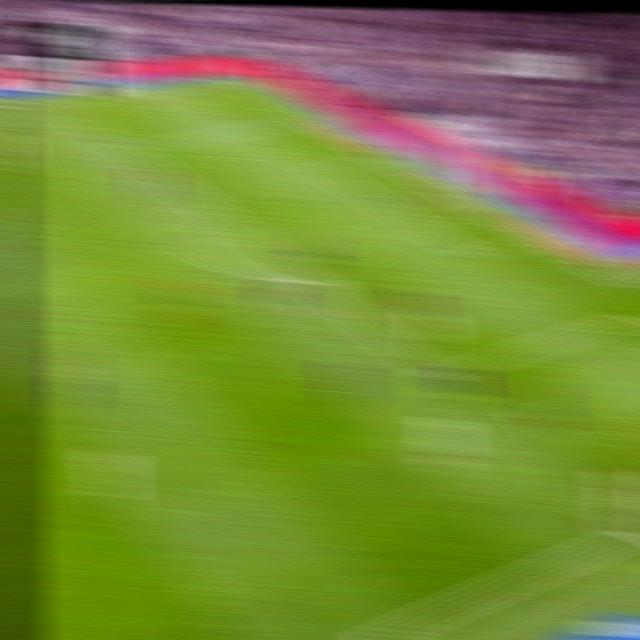bigarea_bottom_inner: (423, 365, 455, 388)
bigarea_top_inner: (114, 140, 143, 156)
bottom_arc_area_intersection: (292, 271, 322, 288)
corner: (217, 73, 247, 86)
smallarea_top_inner: (310, 164, 337, 176)
top_arc_area_intersection: (186, 192, 216, 211)
